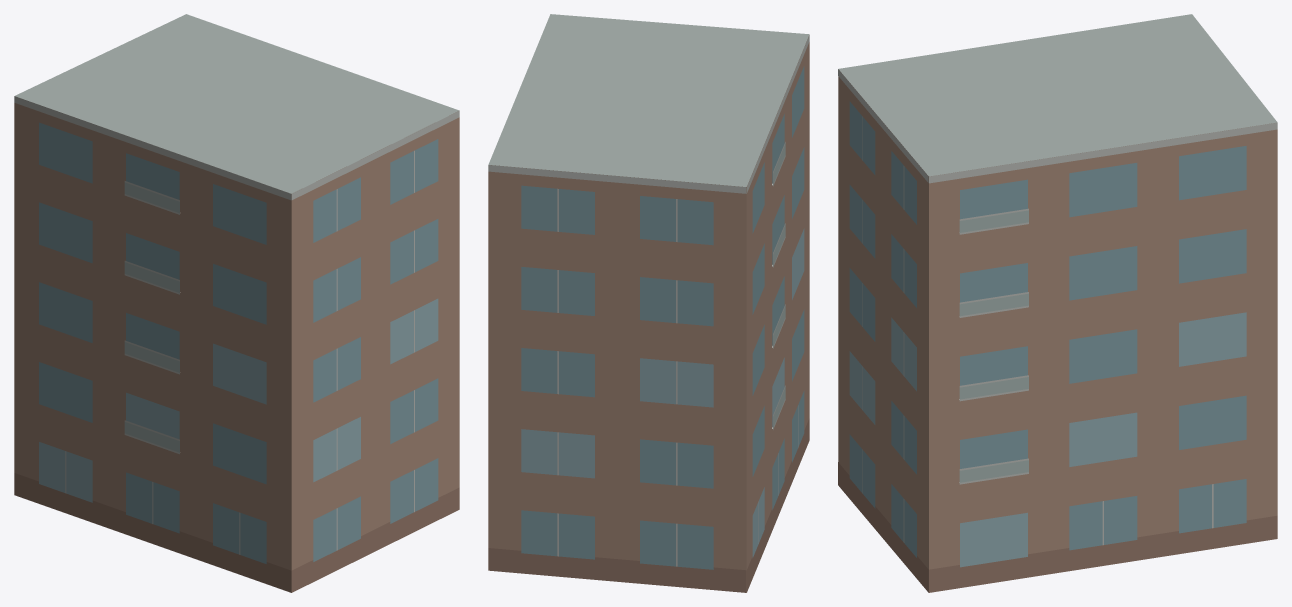
File: survey-upis-32934151.glb
The picture shows the model from 3 angles, left to right: view 1: azimuth 30°, elevation 25°; view 2: azimuth 150°, elevation 25°; view 3: azimuth 270°, elevation 25°; orthographic projection. The views are drawn at different scales.
Parts seen in each view (by area): view 1: survey-upis-32934151.tmp; view 2: survey-upis-32934151.tmp; view 3: survey-upis-32934151.tmp.
Boxes of the visible parts, x1,y1,x2,y2 form: survey-upis-32934151.tmp: (14,14,459,592); survey-upis-32934151.tmp: (488,14,809,592); survey-upis-32934151.tmp: (838,14,1277,592).
Size of the model in its own units: 12.23 by 14.6 by 13.98.
